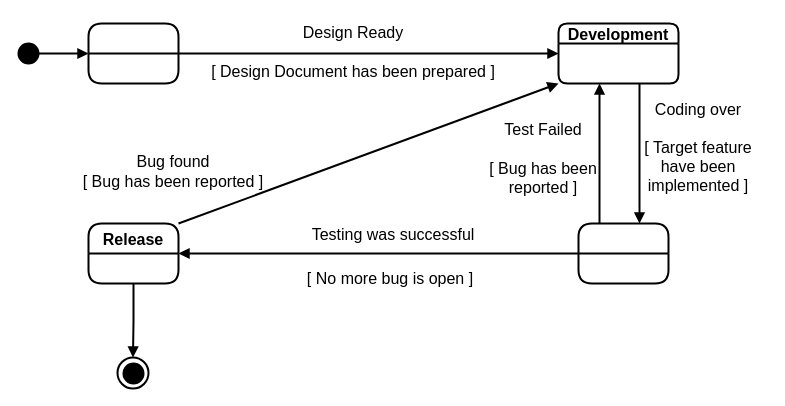
The diagram is 785 pixels wide and 406 high, and some of its shapes have lost their labels. Here are the shapes that lost their labels. From the top down, the centre of each, then its label:
At point (133, 53): "Design".
At point (623, 253): "Testing".
